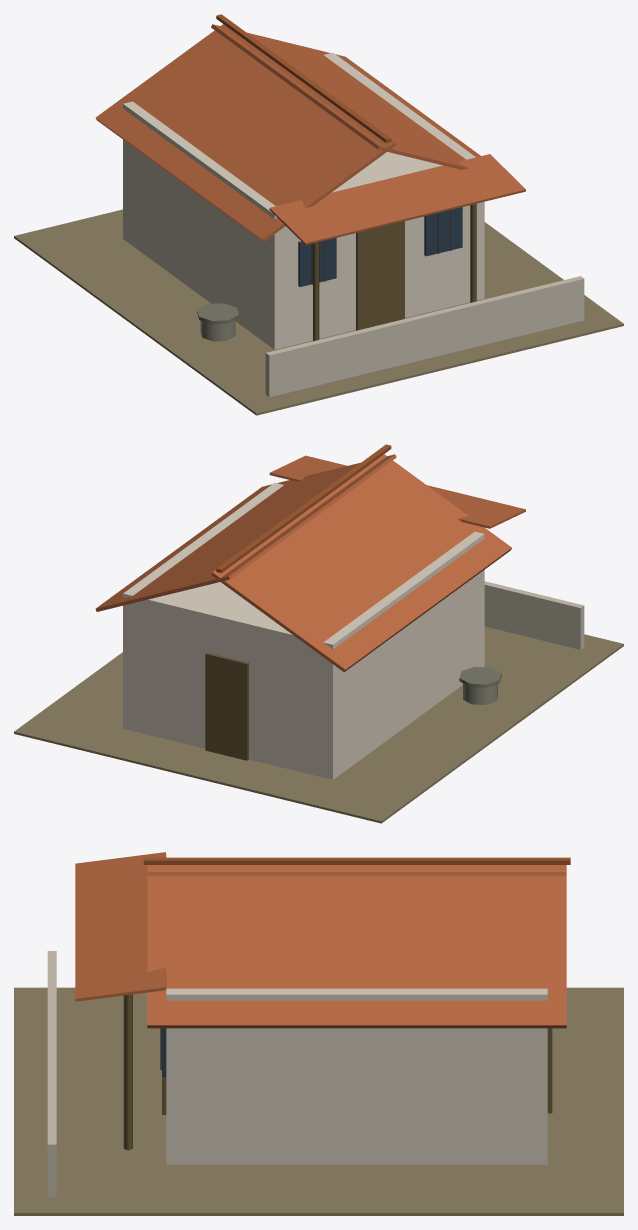
Rendered from farmhouse.glb.
The picture shows the model from 3 angles, top to bottom: view 1: azimuth 30°, elevation 25°; view 2: azimuth 150°, elevation 25°; view 3: azimuth 270°, elevation 25°; orthographic projection. The views are drawn at different scales.
Visible parts, largest first — view 1: Mesh_Walls, Mesh_RoofLeft, Mesh_GroundPad, Mesh_GardenWall, Mesh_PorchOverhang, Mesh_RoofRight, Mesh_FrontDoor, Mesh_RoofRidge, Mesh_FrontWindowR, Mesh_FrontWindowL, Mesh_WellRim, Mesh_PorchPostL (+2 smaller); view 2: Mesh_Walls, Mesh_GroundPad, Mesh_RoofLeft, Mesh_RoofRight, Mesh_GardenWall, Mesh_BackDoor, Mesh_PorchOverhang, Mesh_RoofRidge, Mesh_WellRim, Mesh_Well; view 3: Mesh_GroundPad, Mesh_RoofRight, Mesh_Walls, Mesh_PorchOverhang, Mesh_RoofRidge, Mesh_GardenWall, Mesh_RoofLeft, Mesh_PorchPostR, Mesh_BackDoor.
Part boxes in pixels (x1,y1,x2,y2): Mesh_Walls: [123, 52, 484, 349]; Mesh_RoofLeft: [95, 24, 396, 241]; Mesh_GroundPad: [14, 209, 623, 415]; Mesh_GardenWall: [265, 276, 584, 397]; Mesh_PorchOverhang: [269, 154, 525, 245]; Mesh_RoofRight: [211, 24, 480, 169]; Mesh_FrontDoor: [356, 221, 404, 330]; Mesh_RoofRidge: [216, 14, 391, 142]; Mesh_FrontWindowR: [424, 207, 462, 256]; Mesh_FrontWindowL: [298, 238, 336, 286]; Mesh_WellRim: [197, 303, 238, 324]; Mesh_PorchPostL: [313, 242, 319, 341]; Mesh_Walls: [123, 482, 484, 779]; Mesh_GroundPad: [14, 626, 623, 823]; Mesh_RoofLeft: [211, 454, 511, 672]; Mesh_RoofRight: [95, 454, 396, 611]; Mesh_GardenWall: [484, 581, 584, 649]; Mesh_BackDoor: [205, 652, 248, 760]; Mesh_PorchOverhang: [269, 455, 525, 528]; Mesh_RoofRidge: [216, 444, 391, 572]; Mesh_WellRim: [459, 666, 501, 687]; Mesh_Well: [463, 683, 497, 704]; Mesh_GroundPad: [14, 987, 623, 1215]; Mesh_RoofRight: [147, 865, 566, 1028]; Mesh_Walls: [166, 988, 547, 1164]; Mesh_PorchOverhang: [75, 852, 166, 1001]; Mesh_RoofRidge: [143, 857, 570, 864]; Mesh_GardenWall: [47, 951, 56, 1196]; Mesh_RoofLeft: [147, 872, 566, 876]; Mesh_PorchPostR: [123, 994, 132, 1150]; Mesh_BackDoor: [547, 1028, 552, 1113].
Size of the model in its own units: 7 by 3.53 by 8.
